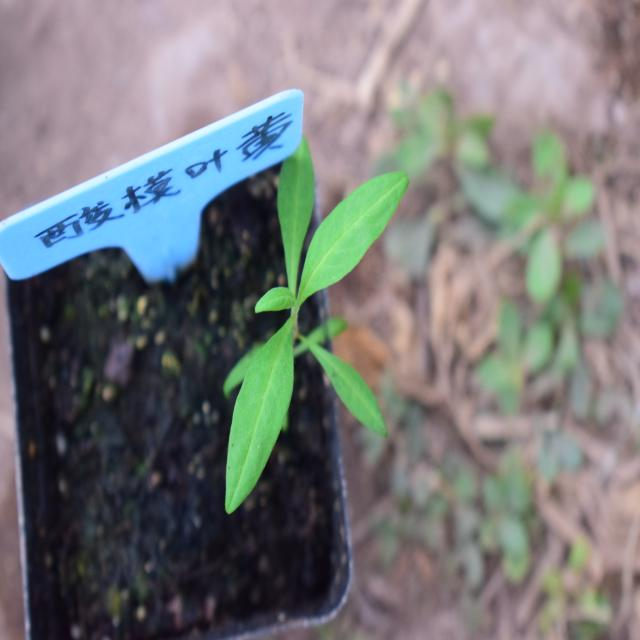white_smart_weed: (194, 143, 402, 490)
